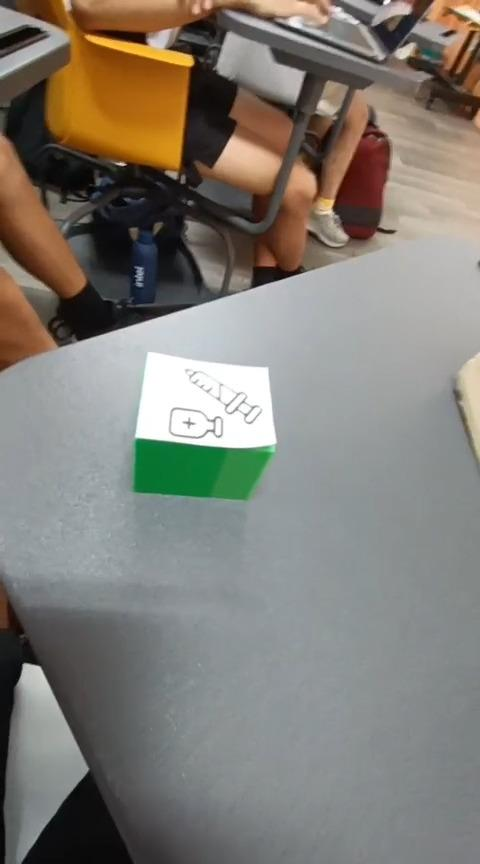antiseptic cream: (131, 350, 278, 502)
